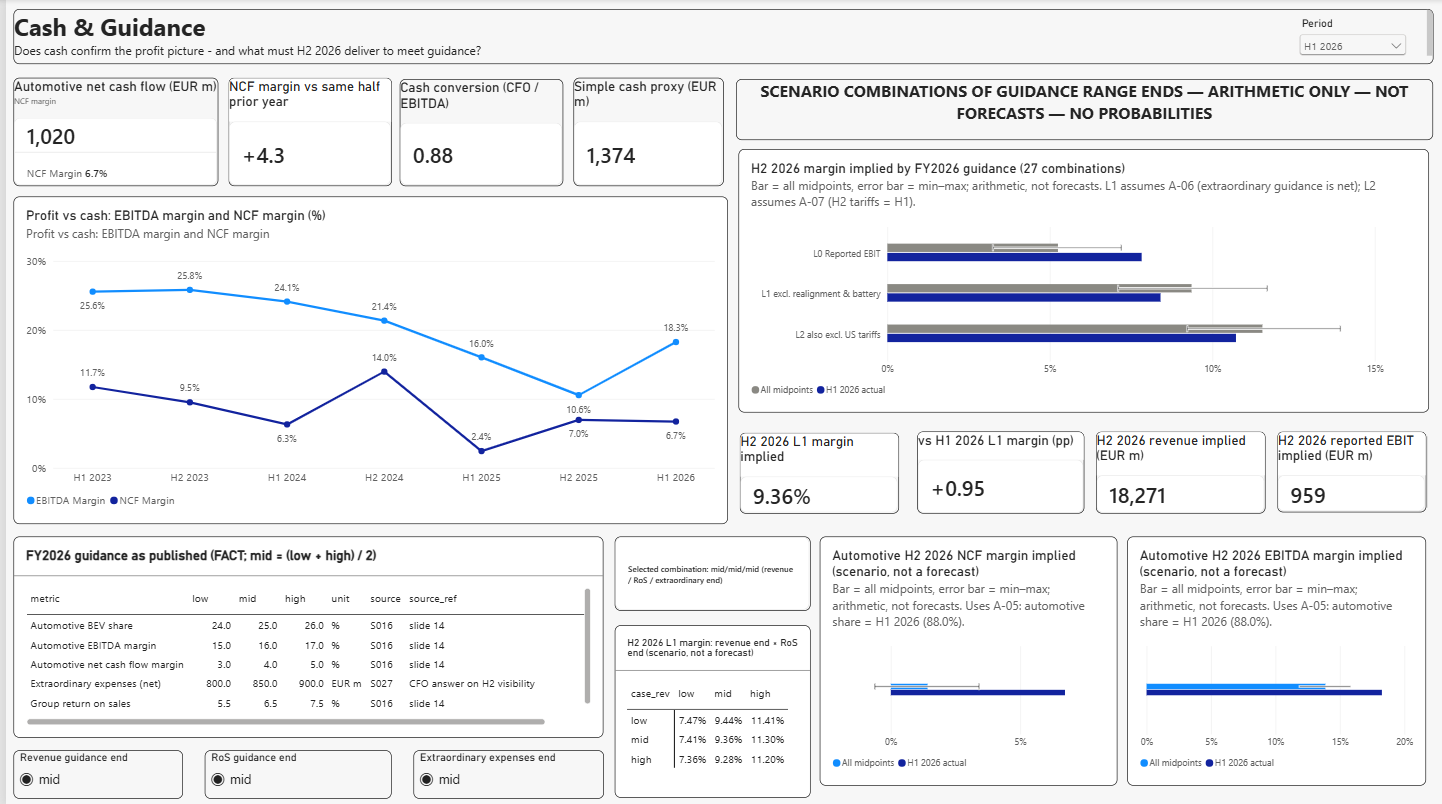

The dashboard page shown, as its layout file describes it:
{"tool":"powerbi","page":{"name":"5 Cash & Guidance","canvas":[1920,1080],"ordinal":4},"visuals":[{"type":"textbox","box":[10,13.4,1896.9,73.5],"z":0},{"type":"cardVisual","title":"Automotive net cash flow (EUR m)","fields":{"Data":["FactHalfYear.Auto NCF"]},"box":[10.5,104.7,273.8,144.8],"z":1000},{"type":"cardVisual","title":"NCF margin vs same half prior year","fields":{"Data":["FactHalfYear.YoY NCF Margin (pp)"]},"box":[296.5,104.7,218,144.8],"z":2000},{"type":"cardVisual","title":"Cash conversion (CFO / EBITDA)","fields":{"Data":["FactHalfYear.CFO to EBITDA"]},"box":[526.7,106.4,218,143],"z":3000},{"type":"cardVisual","title":"Simple cash proxy (EUR m)","fields":{"Data":["FactHalfYear.Simple Cash Proxy"]},"box":[758.7,104.7,200.6,144.8],"z":4000},{"type":"lineChart","title":"Profit vs cash: EBITDA margin and NCF margin (%)","fields":{"Category":["DimPeriod.period_label"],"Y":["FactHalfYear.EBITDA Margin","FactHalfYear.NCF Margin"]},"box":[10.5,263.4,954.1,437.8],"z":5000},{"type":"textbox","box":[975,106.4,931.4,82],"z":6000},{"type":"clusteredBarChart","title":"H2 2026 margin implied by FY2026 guidance (27 combinations)","fields":{"Category":["DimLevel.level_name"],"Y":["FactGuidance.Scen Mid by Level","FactHalfYear.Latest Margin by Level"]},"box":[978.5,200.6,922.7,352.3],"z":7000},{"type":"slicer","fields":{"Values":["FactGuidance.case_ros"]},"box":[265.1,1002.9,249.4,64.5],"z":8000},{"type":"slicer","fields":{"Values":["FactGuidance.case_ex"]},"box":[544.2,1002.9,254.7,64.5],"z":9000},{"type":"slicer","fields":{"Values":["FactGuidance.case_rev"]},"box":[10.5,1002.9,226.7,64.5],"z":10000},{"type":"slicer","fields":{"Values":["DimPeriod.period_label"]},"box":[1723.2,23.4,151.9,55.1],"z":11000},{"type":"cardVisual","fields":{"Data":["FactGuidance.Scen Selected Label"]},"box":[812.8,718.6,261.6,99.4],"z":12000},{"type":"cardVisual","title":"H2 2026 L1 margin implied","fields":{"Data":["FactGuidance.Scen H2 Margin L1"]},"box":[980.2,579.1,212.8,108.1],"z":13000},{"type":"cardVisual","title":"vs H1 2026 L1 margin (pp)","fields":{"Data":["FactGuidance.Scen H2 L1 vs Latest H1 (pp)"]},"box":[1217.4,577.3,223.3,109.9],"z":14000},{"type":"cardVisual","title":"H2 2026 revenue implied (EUR m)","fields":{"Data":["FactGuidance.Scen H2 Revenue"]},"box":[1456.4,577.3,226.7,109.9],"z":15000},{"type":"cardVisual","title":"H2 2026 reported EBIT implied (EUR m)","fields":{"Data":["FactGuidance.Scen H2 EBIT L0"]},"box":[1698.8,577.3,198.8,108.1],"z":16000},{"type":"pivotTable","title":"H2 2026 L1 margin: revenue end × RoS end (scenario, not a forecast)","fields":{"Columns":["FactGuidance.case_ros"],"Rows":["FactGuidance.case_rev"],"Values":["FactGuidance.Scen H2 Margin L1"]},"box":[812.8,837.2,261.6,230.2],"z":17000},{"type":"clusteredBarChart","title":"Automotive H2 2026 EBITDA margin implied (scenario, not a forecast)","fields":{"Y":["FactGuidanceAuto.Scen Auto Mid EBITDA Margin","FactHalfYear.Latest EBITDA Margin"]},"box":[1498.3,718.6,399.4,333.1],"z":18000},{"type":"tableEx","title":"FY2026 guidance as published (FACT; mid = (low + high) / 2)","fields":{"Values":["GuidanceInputs.metric","GuidanceInputs.low_value","GuidanceInputs.mid_value","GuidanceInputs.high_value","GuidanceInputs.unit_std","GuidanceInputs.source_id","GuidanceInputs.source_ref"]},"box":[10.5,718.6,788.4,268.6],"z":19000},{"type":"clusteredBarChart","title":"Automotive H2 2026 NCF margin implied (scenario, not a forecast)","fields":{"Y":["FactGuidanceAuto.Scen Auto Mid NCF Margin","FactHalfYear.Latest NCF Margin"]},"box":[1086.6,718.6,397.7,333.1],"z":20000}]}

Visuals, with their boxes in screenshot pixels (x1, y1, x2, y2), scaled from the page's 1920x1080 canvas onto the 1442x804 screenshot:
textbox: l=8, t=10, r=1432, b=65
"Automotive net cash flow (EUR m)" cardVisual: l=8, t=78, r=214, b=186
"NCF margin vs same half prior year" cardVisual: l=223, t=78, r=386, b=186
"Cash conversion (CFO / EBITDA)" cardVisual: l=396, t=79, r=559, b=186
"Simple cash proxy (EUR m)" cardVisual: l=570, t=78, r=720, b=186
"Profit vs cash: EBITDA margin and NCF margin (%)" lineChart: l=8, t=196, r=724, b=522
textbox: l=732, t=79, r=1432, b=140
"H2 2026 margin implied by FY2026 guidance (27 combinations)" clusteredBarChart: l=735, t=149, r=1428, b=412
slicer - FactGuidance.case_ros: l=199, t=747, r=386, b=795
slicer - FactGuidance.case_ex: l=409, t=747, r=600, b=795
slicer - FactGuidance.case_rev: l=8, t=747, r=178, b=795
slicer - DimPeriod.period_label: l=1294, t=17, r=1408, b=58
cardVisual - FactGuidance.Scen Selected Label: l=610, t=535, r=807, b=609
"H2 2026 L1 margin implied" cardVisual: l=736, t=431, r=896, b=512
"vs H1 2026 L1 margin (pp)" cardVisual: l=914, t=430, r=1082, b=512
"H2 2026 revenue implied (EUR m)" cardVisual: l=1094, t=430, r=1264, b=512
"H2 2026 reported EBIT implied (EUR m)" cardVisual: l=1276, t=430, r=1425, b=510
"H2 2026 L1 margin: revenue end × RoS end (scenario, not a forecast)" pivotTable: l=610, t=623, r=807, b=795
"Automotive H2 2026 EBITDA margin implied (scenario, not a forecast)" clusteredBarChart: l=1125, t=535, r=1425, b=783
"FY2026 guidance as published (FACT; mid = (low + high) / 2)" tableEx: l=8, t=535, r=600, b=735
"Automotive H2 2026 NCF margin implied (scenario, not a forecast)" clusteredBarChart: l=816, t=535, r=1115, b=783
